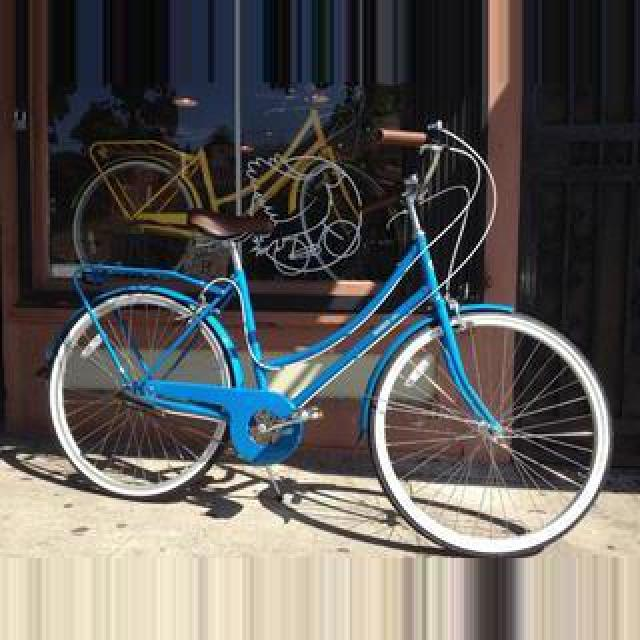Person: (51, 99, 617, 541), (61, 87, 395, 287)
